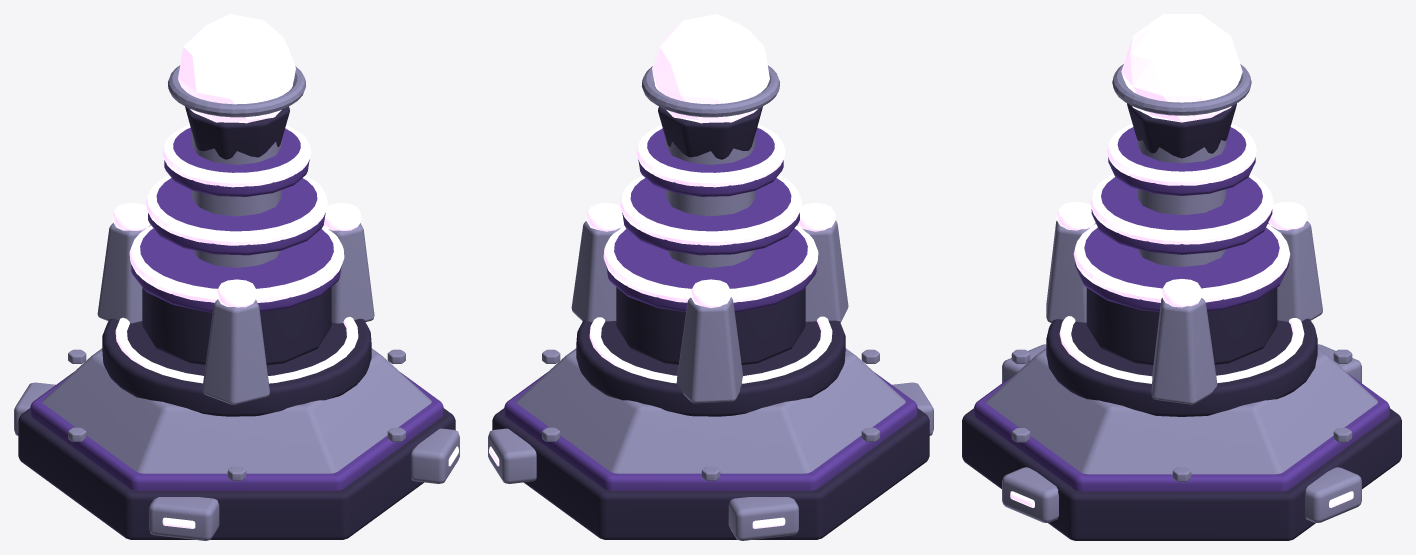
Rendered from tesla.glb.
The picture shows the model from 3 angles, left to right: view 1: azimuth 30°, elevation 25°; view 2: azimuth 150°, elevation 25°; view 3: azimuth 270°, elevation 25°; orthographic projection.
Visible parts, largest first — view 1: Sloped armor, Anchored chassis, Turret bearing, Arc orb, Trim, Conductive coil disc, Insulated pedestal, Conductive coil disc.001, Insulated support.002, Conductive coil disc.002, Live winding, Live winding.001 (+13 smaller); view 2: Sloped armor, Anchored chassis, Turret bearing, Arc orb, Trim, Conductive coil disc, Insulated pedestal, Conductive coil disc.001, Insulated support.001, Conductive coil disc.002, Live winding.001, Live winding (+13 smaller); view 3: Sloped armor, Anchored chassis, Turret bearing, Arc orb, Trim, Conductive coil disc, Insulated pedestal, Conductive coil disc.001, Insulated support, Conductive coil disc.002, Live winding.001, Live winding (+12 smaller).
Part boxes in pixels (<box>): Sloped armor: <box>42,348,431,473</box>; Anchored chassis: <box>18,408,455,539</box>; Turret bearing: <box>102,318,371,416</box>; Arc orb: <box>178,14,295,123</box>; Trim: <box>30,373,443,490</box>; Conductive coil disc: <box>131,228,341,312</box>; Insulated pedestal: <box>142,287,331,365</box>; Conductive coil disc.001: <box>148,178,325,255</box>; Insulated support.002: <box>202,299,269,404</box>; Conductive coil disc.002: <box>164,127,309,196</box>; Live winding: <box>129,225,344,302</box>; Live winding.001: <box>146,175,327,245</box>; Sloped armor: <box>516,348,905,473</box>; Anchored chassis: <box>492,408,929,539</box>; Turret bearing: <box>576,320,845,416</box>; Arc orb: <box>652,14,769,123</box>; Trim: <box>504,373,917,490</box>; Conductive coil disc: <box>606,228,816,312</box>; Insulated pedestal: <box>616,287,805,364</box>; Conductive coil disc.001: <box>622,178,799,255</box>; Insulated support.001: <box>676,297,742,403</box>; Conductive coil disc.002: <box>638,127,783,196</box>; Live winding.001: <box>620,175,801,245</box>; Live winding: <box>603,225,818,302</box>; Sloped armor: <box>986,348,1377,474</box>; Anchored chassis: <box>962,408,1401,540</box>; Turret bearing: <box>1046,318,1317,416</box>; Arc orb: <box>1121,14,1242,122</box>; Trim: <box>974,372,1389,491</box>; Conductive coil disc: <box>1075,227,1288,311</box>; Insulated pedestal: <box>1086,288,1277,365</box>; Conductive coil disc.001: <box>1091,177,1272,254</box>; Insulated support: <box>1151,297,1217,404</box>; Conductive coil disc.002: <box>1108,127,1255,195</box>; Live winding.001: <box>1090,174,1273,244</box>; Live winding: <box>1073,224,1290,302</box>.
Bounding box in the file's own units: 1.63 × 2.06 × 1.85.
